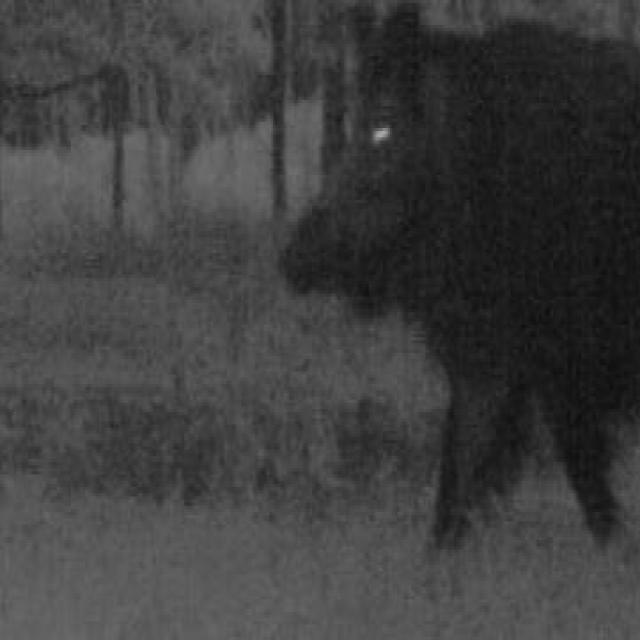pig: (283, 0, 640, 538)
